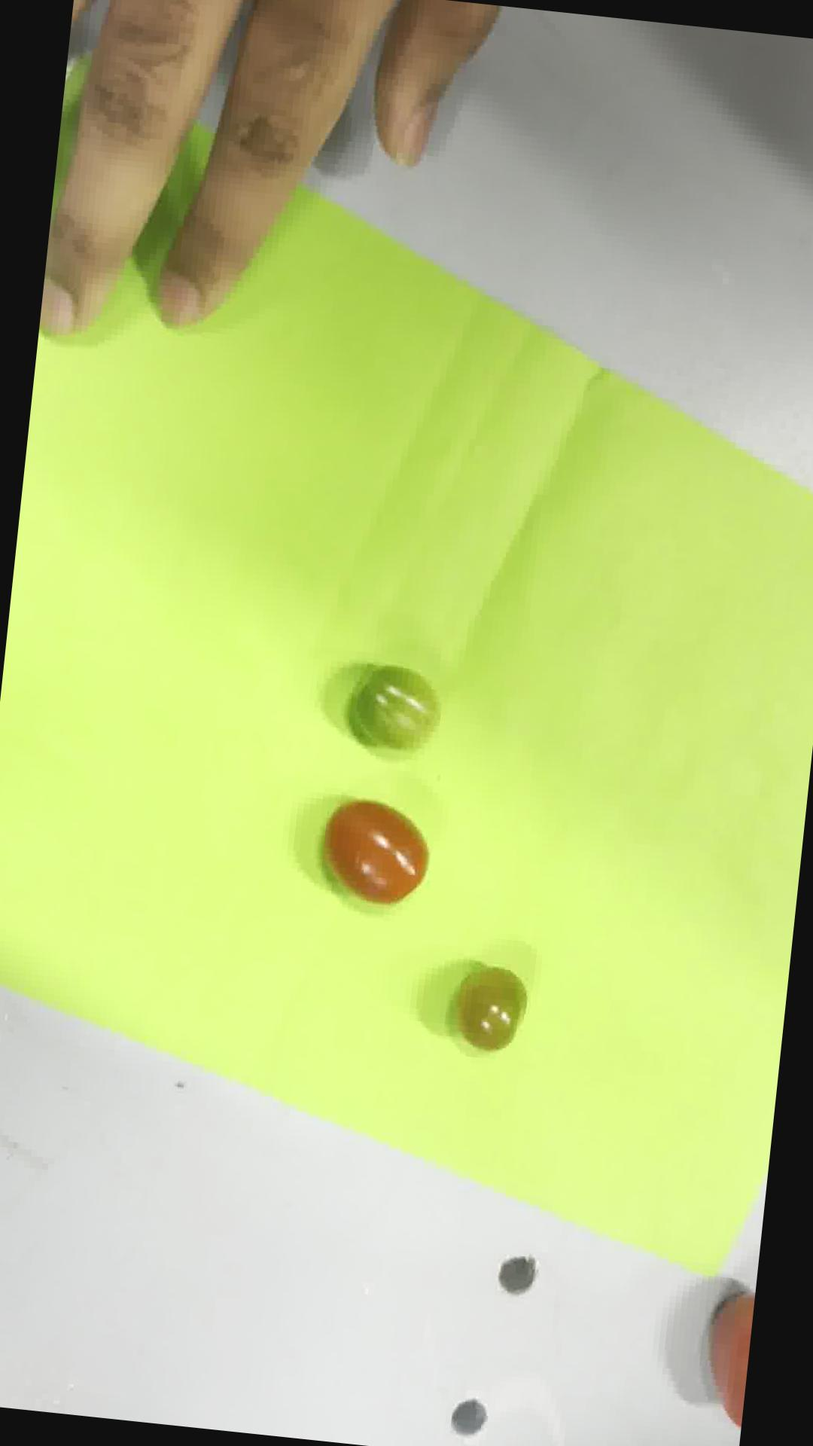green_cherry_tomato: (347, 664, 440, 753)
red_cherry_tomato: (326, 800, 428, 904)
yellow_cherry_tomato: (457, 967, 527, 1051)
